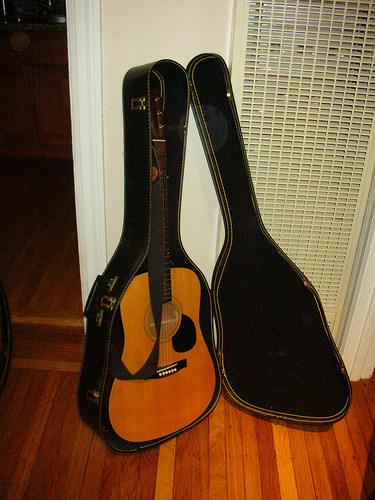guitar: (99, 84, 220, 449)
